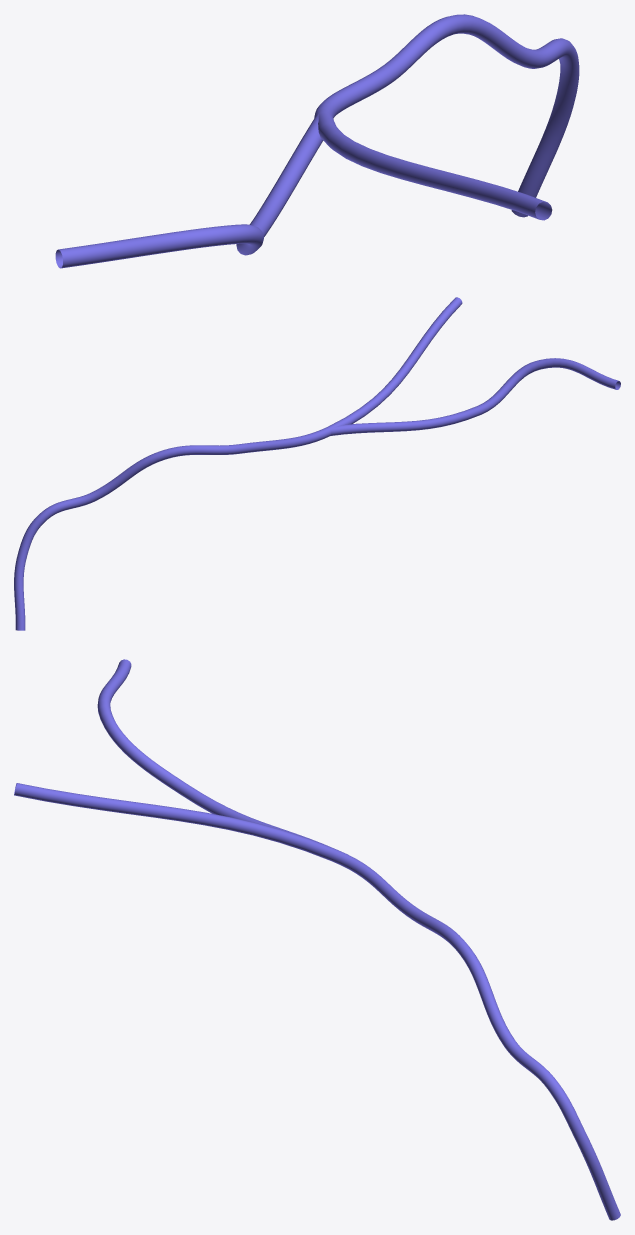
File: Superior_petrosal_sinus.l_BezierCurve.471.glb
3 views of the same model, one above another, from view 1: azimuth 30°, elevation 25°; view 2: azimuth 150°, elevation 25°; view 3: azimuth 270°, elevation 25° (orthographic). The views are drawn at different scales.
Visible parts, largest first — view 1: Superior_petrosal_sinus.l_BezierCurve.471; view 2: Superior_petrosal_sinus.l_BezierCurve.471; view 3: Superior_petrosal_sinus.l_BezierCurve.471.
Part boxes in pixels (x1,y1,x2,y2): Superior_petrosal_sinus.l_BezierCurve.471: [55, 14, 579, 268]; Superior_petrosal_sinus.l_BezierCurve.471: [14, 297, 620, 630]; Superior_petrosal_sinus.l_BezierCurve.471: [14, 659, 620, 1220].
Size of the model in its own units: 0.0514 by 0.0254 by 0.0472.
